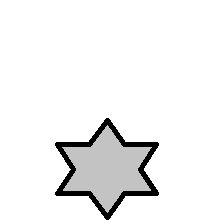star: (55, 118, 157, 219)
